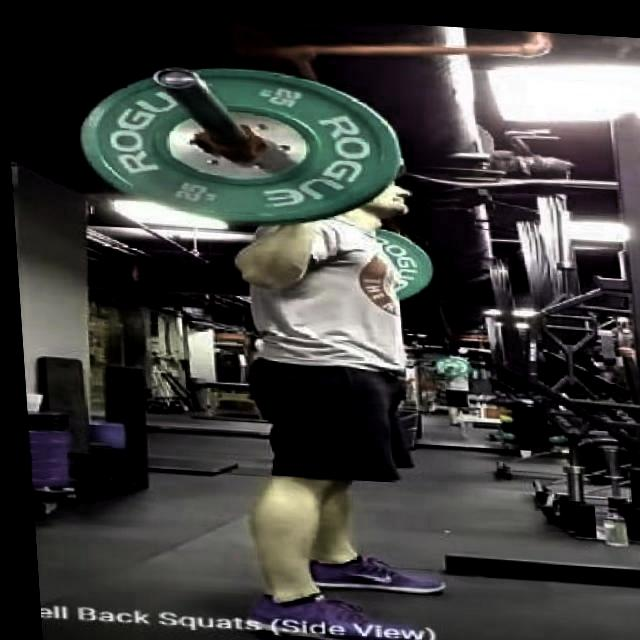barbell: (51, 45, 407, 232)
